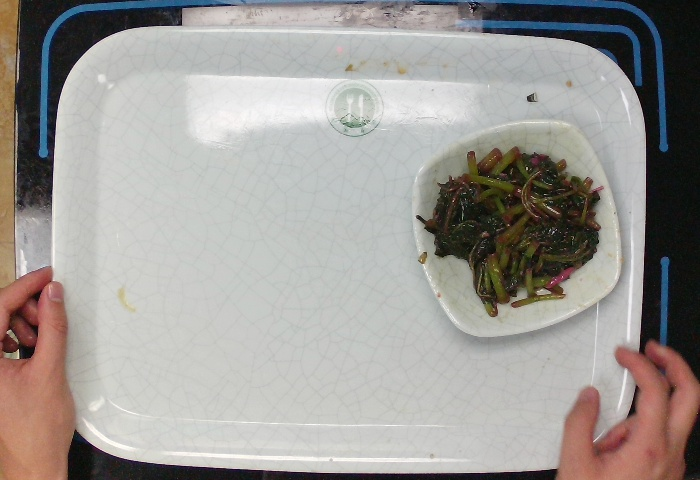WCQzf-Da_Si_Fang_Die: (413, 118, 624, 338)
